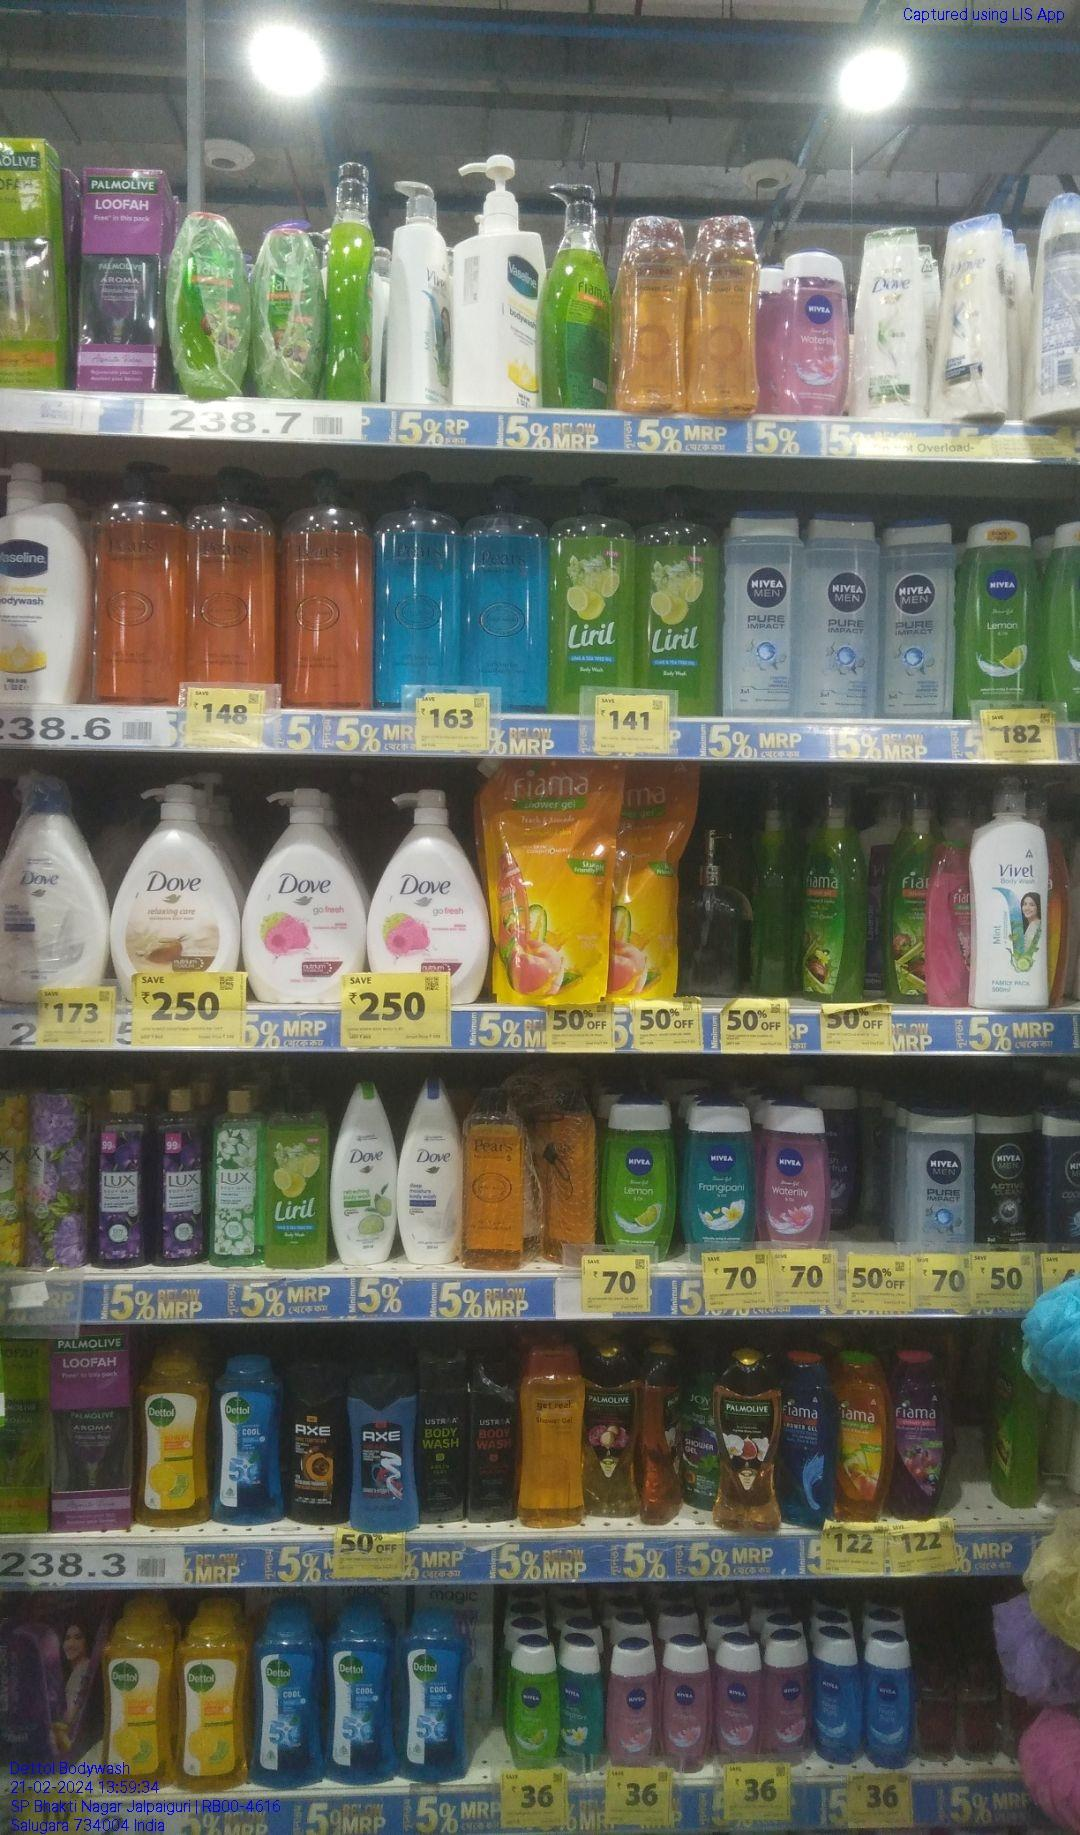Dettol_Bodywash_Cool: (324, 1601, 399, 1787), (248, 1610, 324, 1789), (210, 1352, 283, 1528), (399, 1606, 467, 1786)
Dettol_Bodywash_Refresh: (96, 1608, 172, 1796), (172, 1611, 247, 1793), (134, 1347, 210, 1524)
Dove_Deep_Moisture_Body_Wash_250ML: (396, 1074, 463, 1266)
Dove_Refreshing_Body_Wash_250ML: (328, 1078, 397, 1264)
Get_Real_Shower_Gel_Moisturising_Glycerin_300ML: (514, 1344, 588, 1527)
Liril_Lime_and_Tea_Tree_Oil_Body_Wash_250ML: (260, 1086, 327, 1271)
Lux_Black_Orchid_Scent_and_Juniper_Oil_Body_Wash_245ML: (87, 1083, 153, 1270), (152, 1085, 208, 1267)
Lux_Body_Wash_Skin_Detox_Freesia_Scent_and_Alove_Vera_245ML: (208, 1087, 261, 1267)
Nivea_Shower_Gel_Frangipani_and_Oil_250ML: (678, 1099, 757, 1248)
Nivea_Shower_Gel_Lemon_and_Oil_250ML: (957, 517, 1039, 709), (600, 1094, 679, 1245)
Nivea_Shower_Gel_Waterlily_and_Oil_250ML: (771, 248, 852, 418), (755, 1100, 831, 1241)
Palmolive_Luminous_Oils_With_White_Orchid_Shower_Gel_250ML: (710, 1347, 782, 1537)
